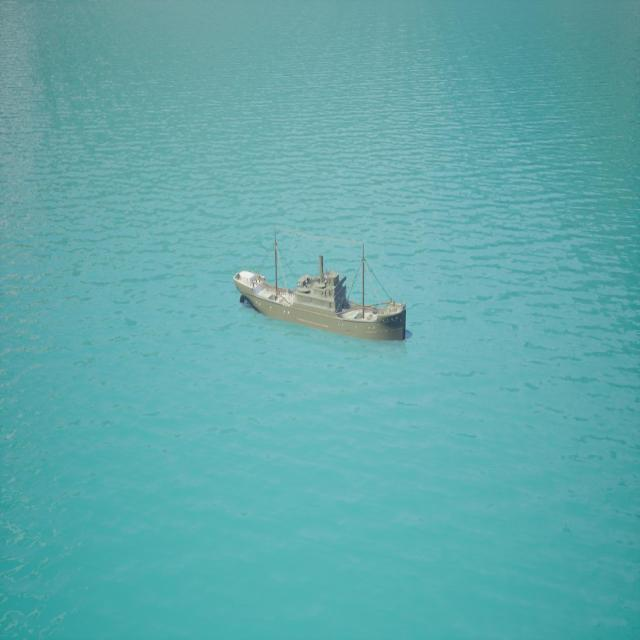fishing ship: (234, 229, 407, 345)
